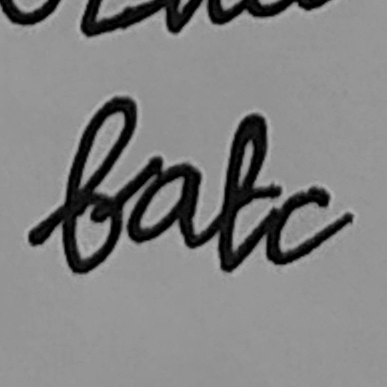a: (124, 156, 208, 252)
b: (52, 90, 142, 276)
c: (263, 182, 357, 269)
t: (215, 109, 285, 276)
